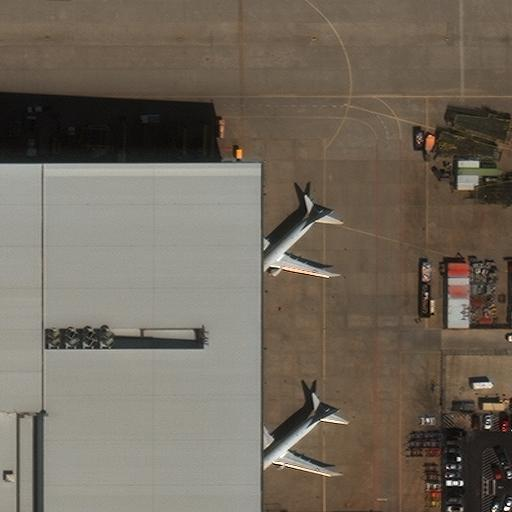Medium Civil Transport: (241, 404, 328, 479), (239, 206, 327, 280)
